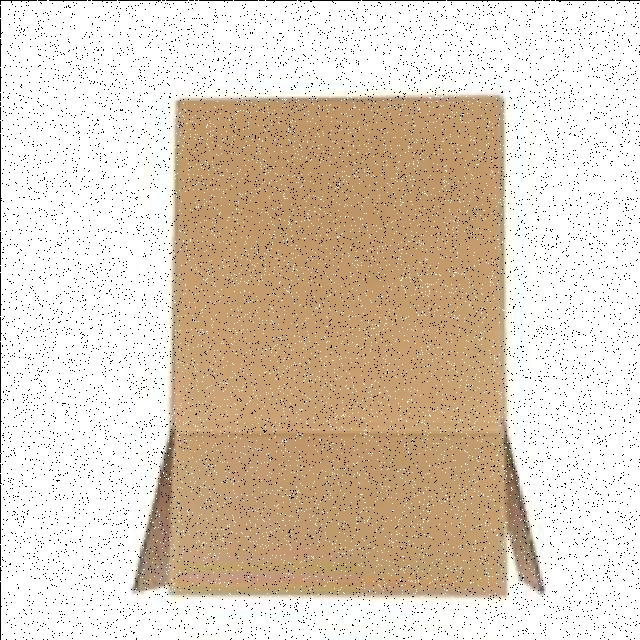defect: (128, 86, 552, 605)
